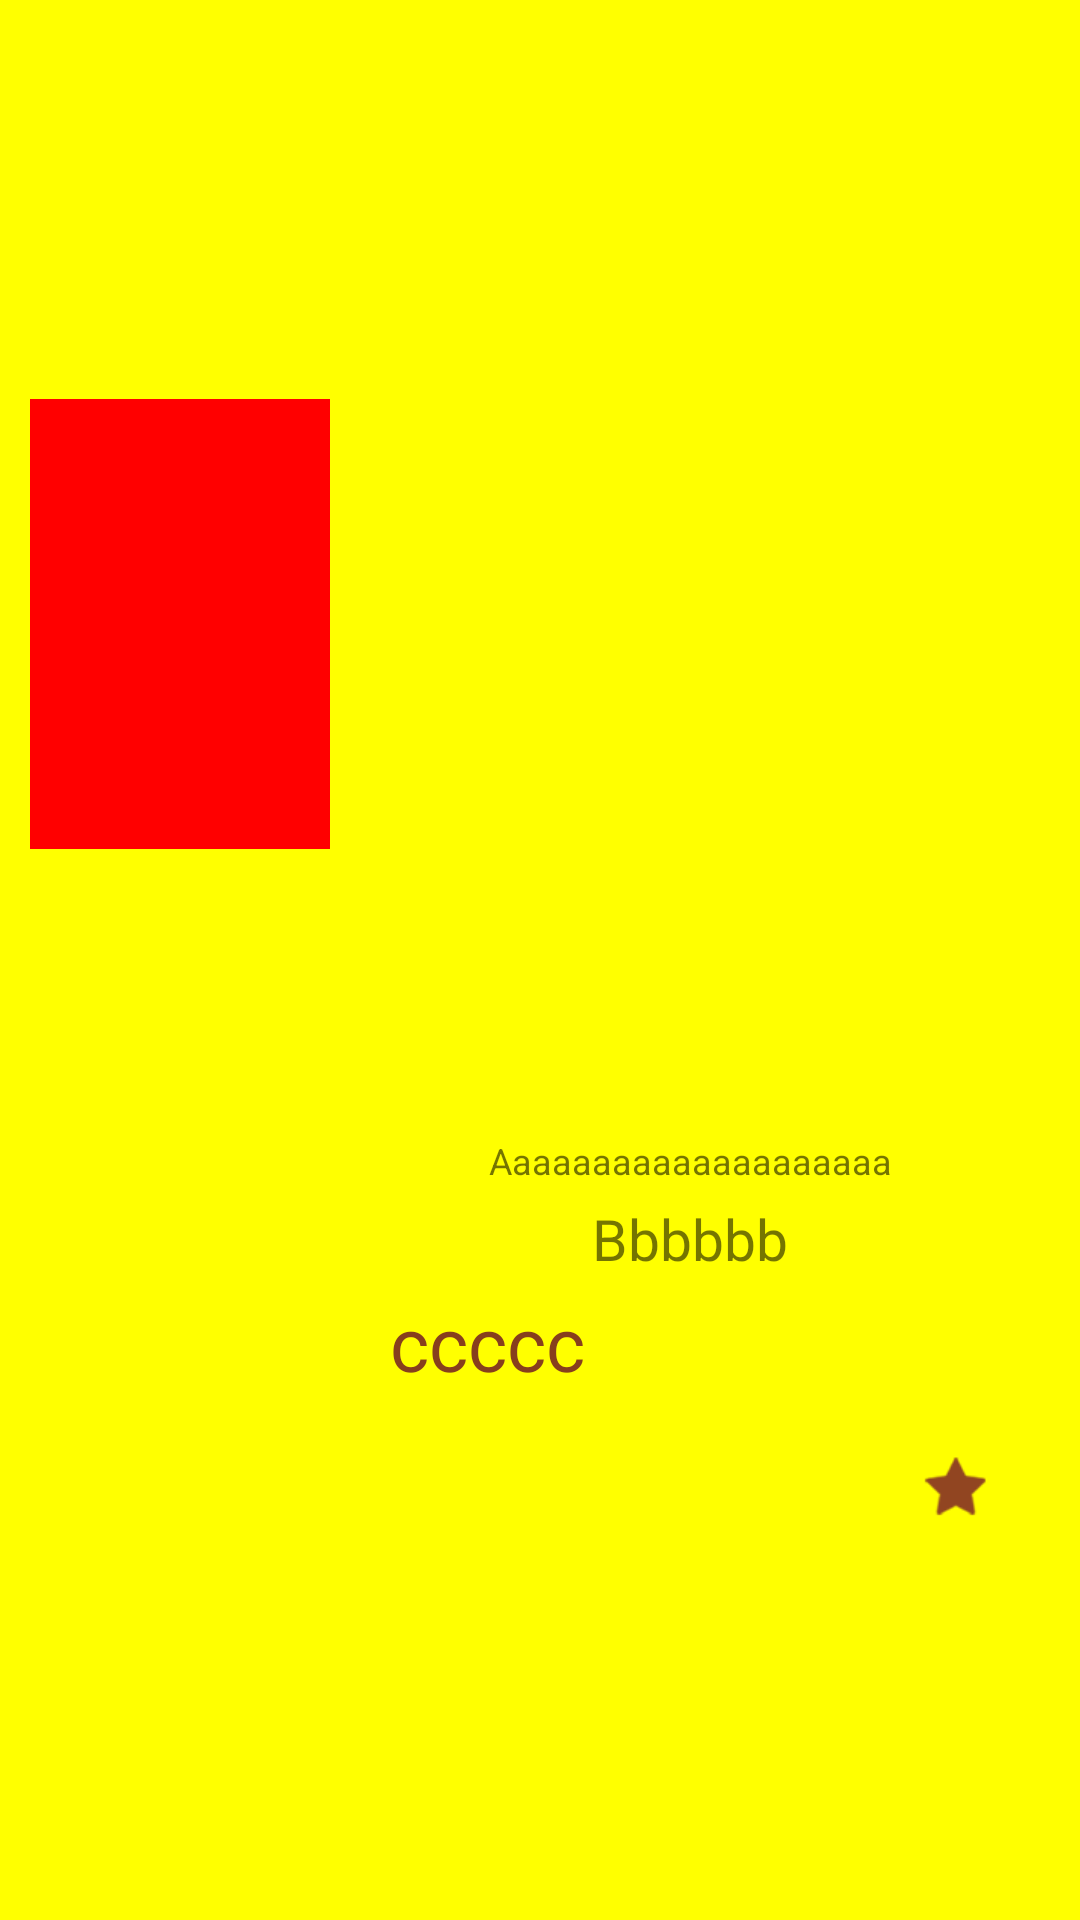

Named icons in this screenshot (1080px×1920px) and their centers, (x,y):
star: (955,1486)
